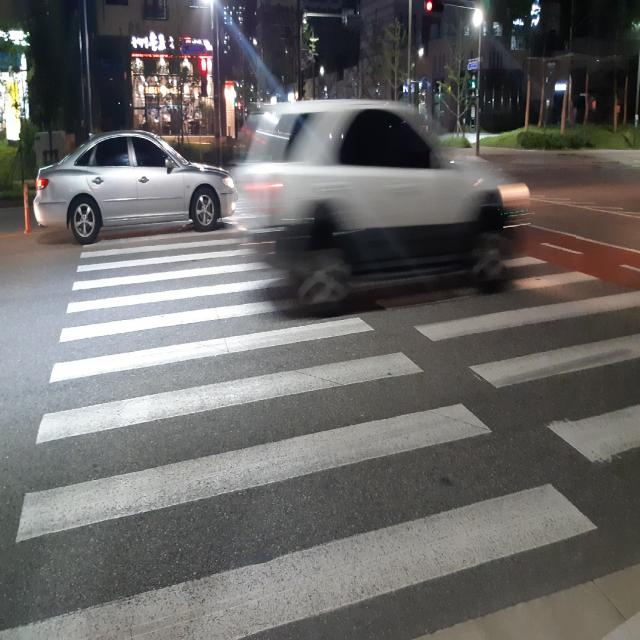빨간불: (201, 59, 207, 93)
초록불: (472, 74, 475, 96)
횡단보도: (0, 192, 640, 640)
